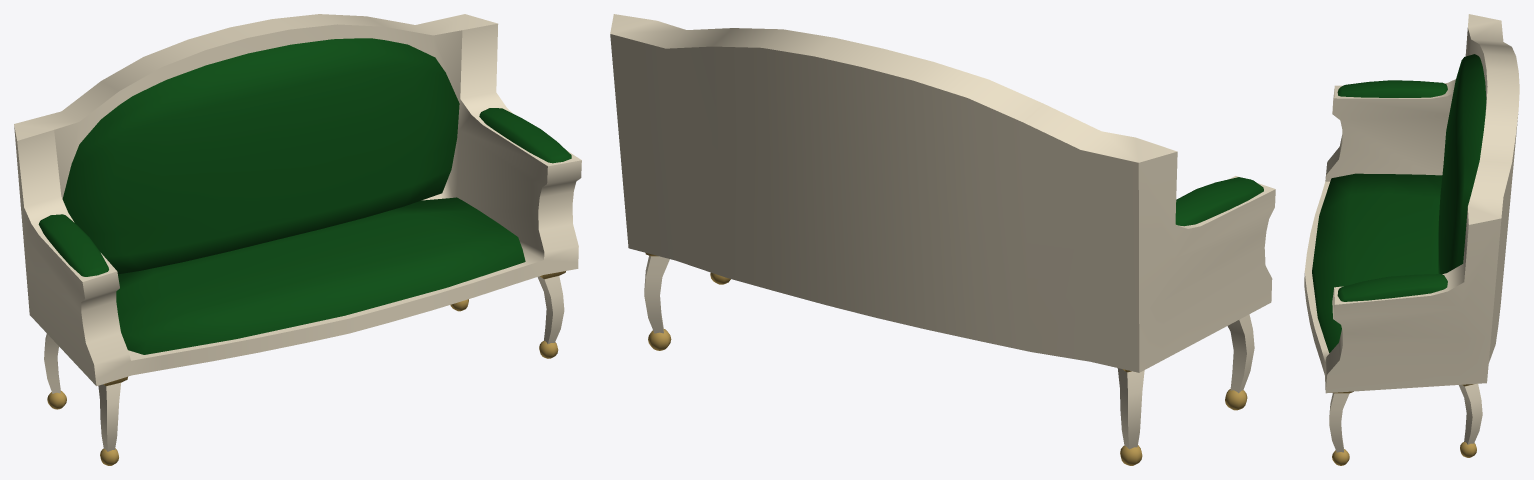
Rendered from BallroomCouchUV.fbx.
3 renders of one model, left to right at view 1: azimuth 30°, elevation 25°; view 2: azimuth 150°, elevation 25°; view 3: azimuth 270°, elevation 25°, orthographic. The views are drawn at different scales.
Visible parts, largest first — view 1: Couch:Mesh; view 2: Couch:Mesh; view 3: Couch:Mesh.
Boxes of the visible parts, bbox=[...] form: Couch:Mesh: bbox=[14, 14, 581, 465]; Couch:Mesh: bbox=[610, 14, 1275, 465]; Couch:Mesh: bbox=[1304, 14, 1519, 465].
Bounding box in the file's own units: 329 × 198 × 137.
